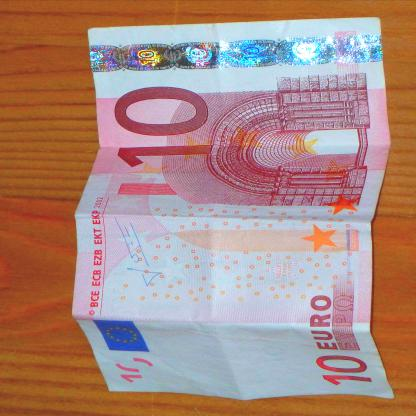euro_banknote: (43, 48, 416, 371)
